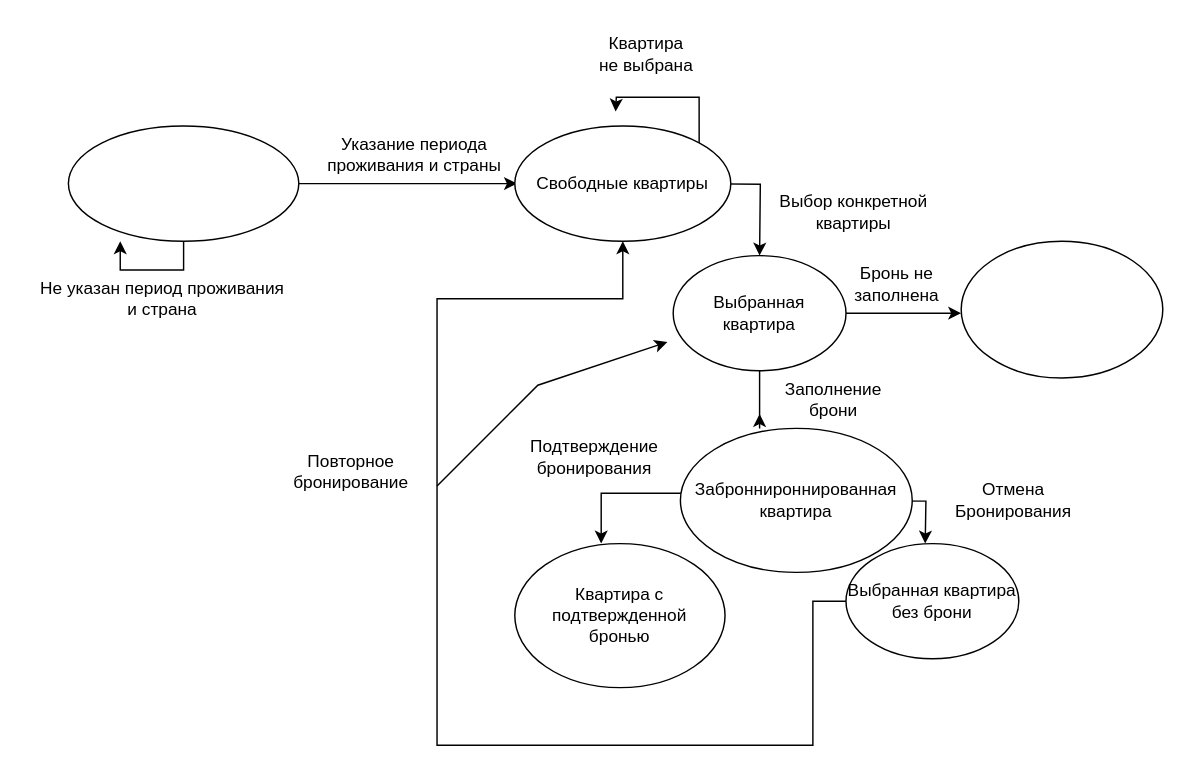
Some shapes in this 1188 by 782 pixel diagram are drawn without their labels. The box of each missing label's shape, as (x1, y1, x2, y2) in pixels:
Начальная страница: (67, 125, 299, 241)
Ошибка "Необходимо заполнить бронь: (960, 240, 1163, 378)
